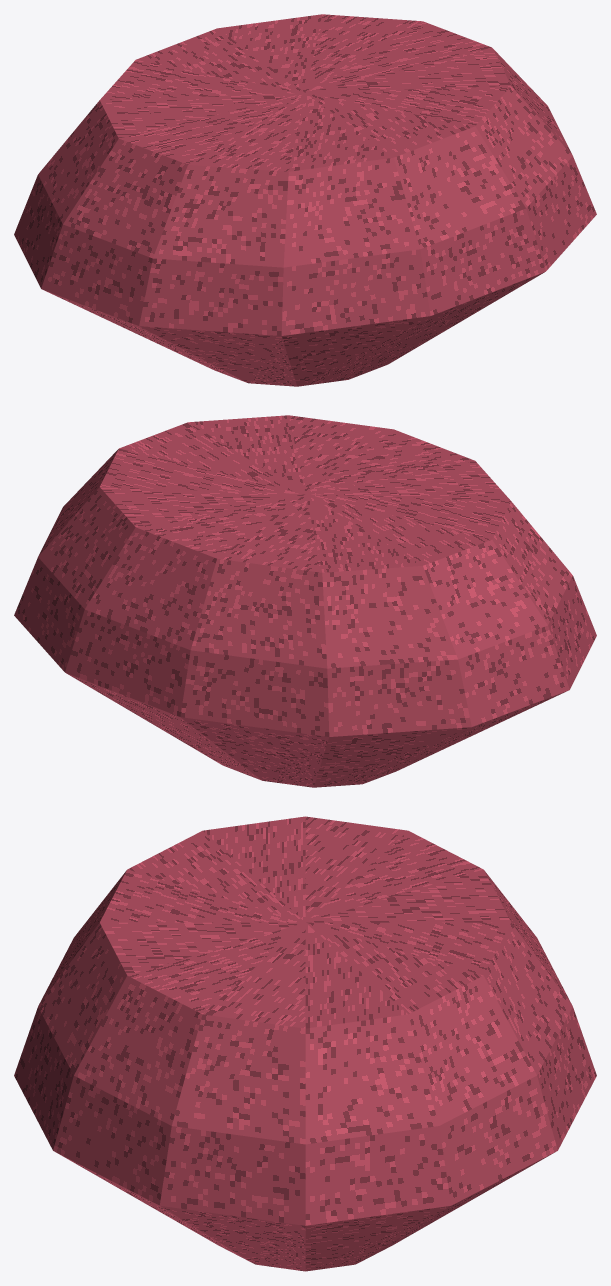
File: ruby.glb
3 renders of one model, top to bottom at view 1: azimuth 30°, elevation 25°; view 2: azimuth 150°, elevation 25°; view 3: azimuth 270°, elevation 25°, orthographic. The views are drawn at different scales.
Parts seen in each view (by area): view 1: block_faceted cut stone; view 2: block_faceted cut stone; view 3: block_faceted cut stone.
Part boxes in pixels (left/top/right/bottom): block_faceted cut stone: left=14, top=14, right=596, bottom=386; block_faceted cut stone: left=14, top=415, right=596, bottom=787; block_faceted cut stone: left=14, top=816, right=596, bottom=1271.
Size of the model in its own units: 0.0505 by 0.0246 by 0.0414.
1 material, 1 textured.
